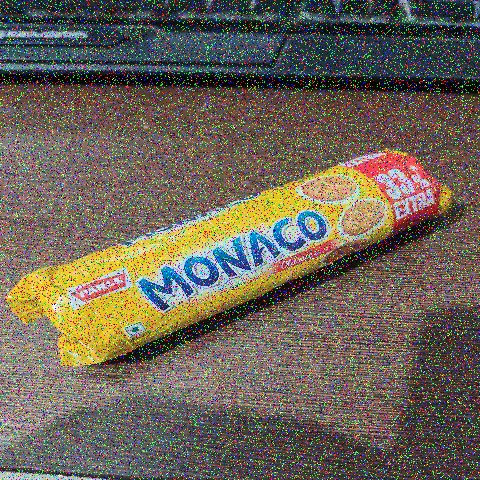monaco: (18, 131, 337, 322)
